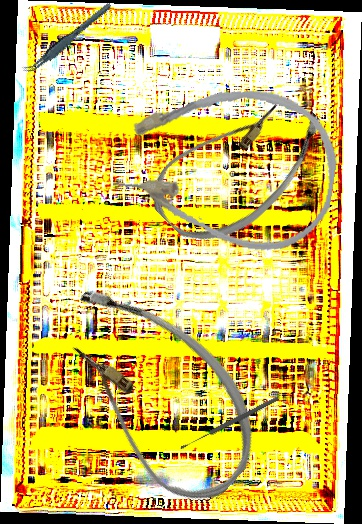Cannula: (21, 263, 288, 522), (105, 68, 347, 262), (138, 65, 339, 266)
Surgical Spoon: (178, 395, 281, 451)
Tissue Forceps: (15, 1, 120, 77)
